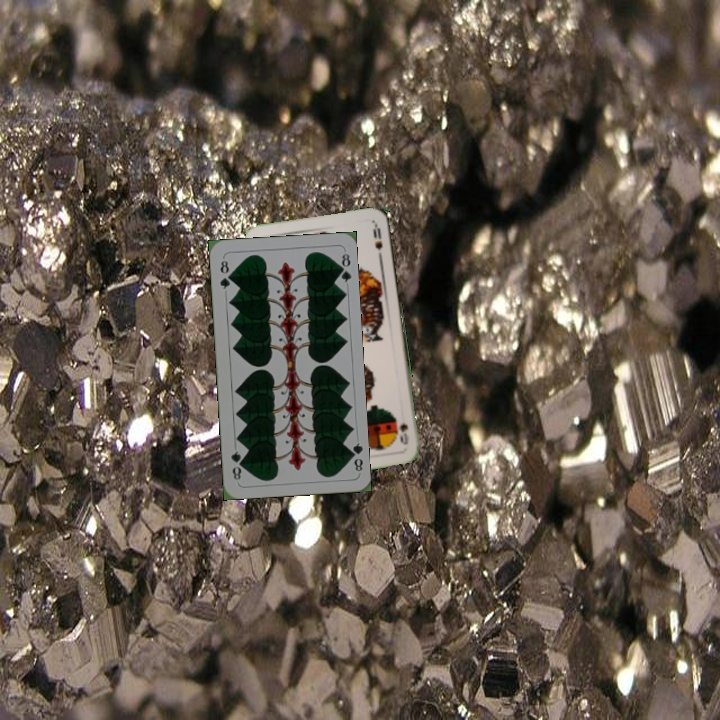G8: (345, 439, 365, 474), (216, 254, 233, 292)
SO: (395, 418, 411, 447)
